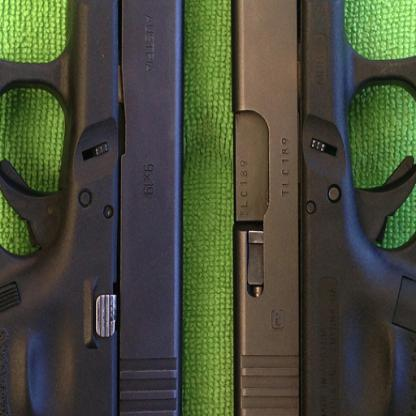gun: (215, 0, 415, 415), (0, 0, 198, 415)
